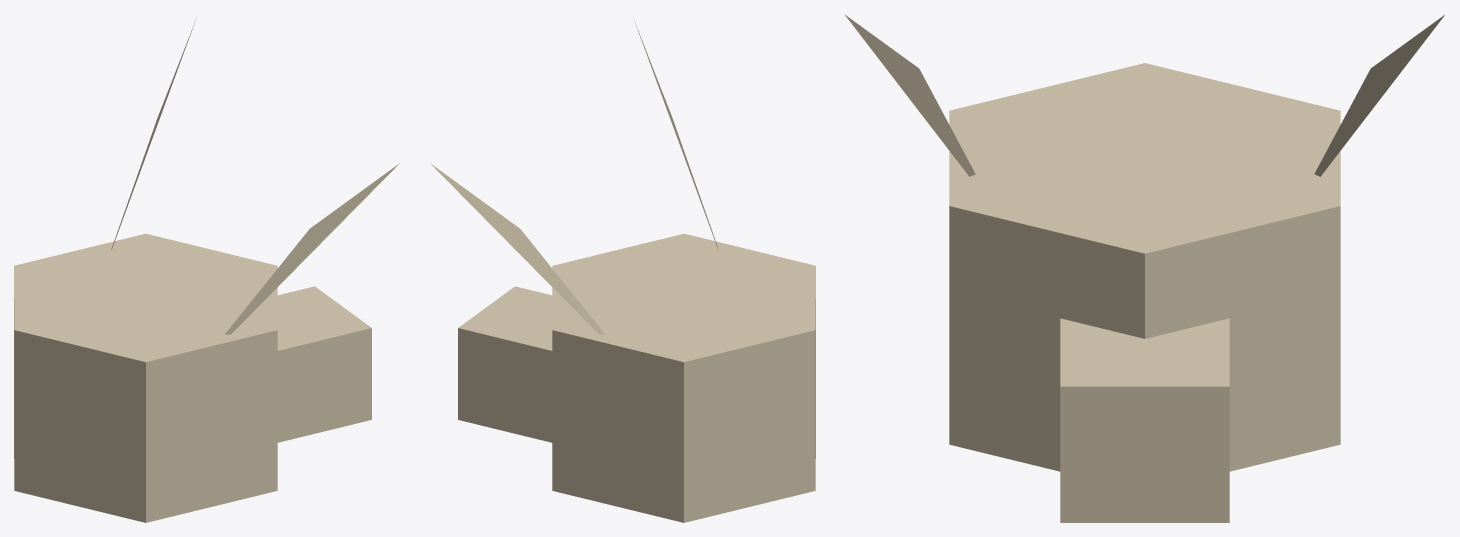
File: skull.obj
3 views of the same model, side by side, from view 1: azimuth 30°, elevation 25°; view 2: azimuth 150°, elevation 25°; view 3: azimuth 270°, elevation 25° (orthographic). The views are drawn at different scales.
Size of the model in its own units: 0.15 by 0.145 by 0.16.
